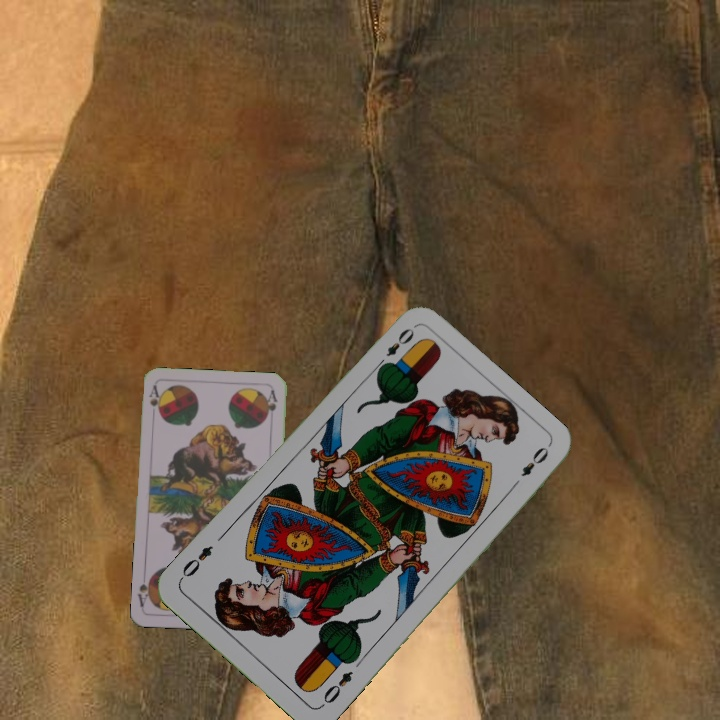EO: (372, 323, 417, 372), (317, 667, 356, 710)
SA: (145, 382, 163, 422)
